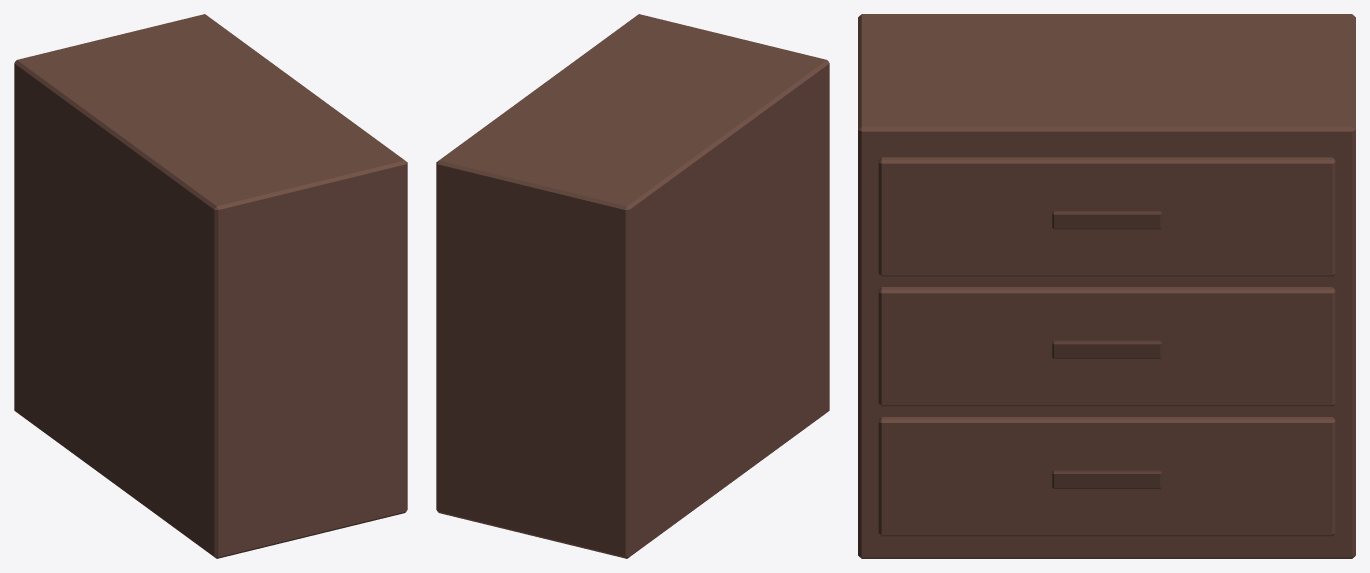
File: commode_perimetre.glb
3 renders of one model, left to right at view 1: azimuth 30°, elevation 25°; view 2: azimuth 150°, elevation 25°; view 3: azimuth 270°, elevation 25°, orthographic. The views are drawn at different scales.
Visible parts, largest first — view 1: commode_perimetre; view 2: commode_perimetre; view 3: commode_perimetre.
Part boxes in pixels (x1=…): commode_perimetre: x1=14, y1=14, x2=407, y2=558; commode_perimetre: x1=436, y1=14, x2=829, y2=558; commode_perimetre: x1=858, y1=14, x2=1355, y2=558.
Size of the model in its own units: 0.7 by 1.15 by 1.2.
Materials: 1 (1 with a texture image).
